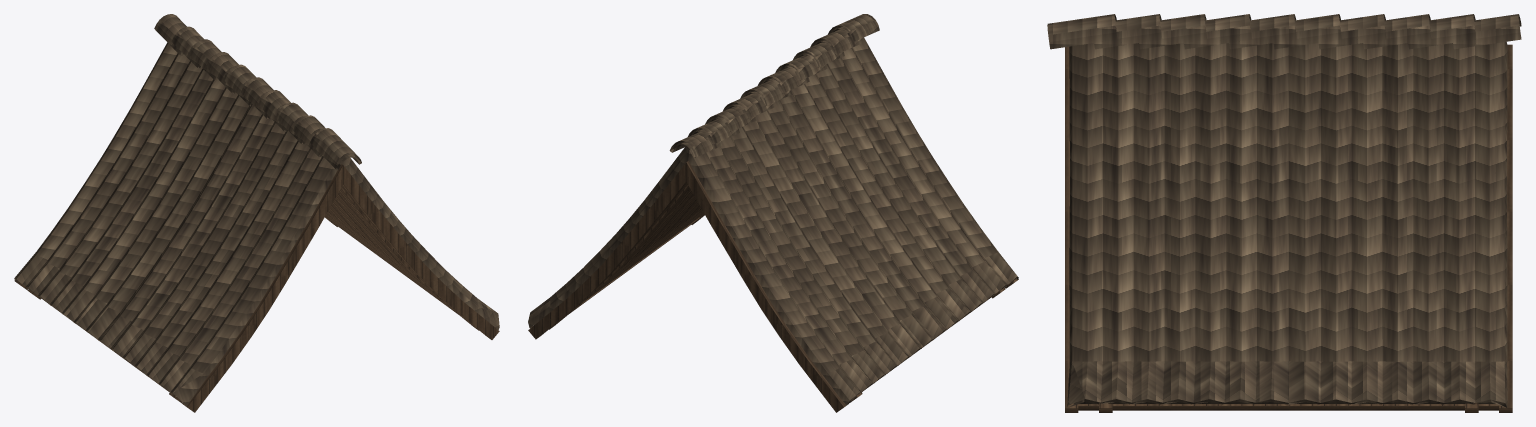
File: Roof_Shingle_6x6.gltf
3 views of the same model, side by side, from view 1: azimuth 30°, elevation 25°; view 2: azimuth 150°, elevation 25°; view 3: azimuth 270°, elevation 25° (orthographic). The views are drawn at different scales.
Visible parts, largest first — view 1: Roof_Shingle_6x6; view 2: Roof_Shingle_6x6; view 3: Roof_Shingle_6x6.
Boxes of the visible parts, x1,y1,x2,y2 form: Roof_Shingle_6x6: (14, 14, 499, 412); Roof_Shingle_6x6: (528, 14, 1018, 412); Roof_Shingle_6x6: (1047, 14, 1521, 412).
Size of the model in its own units: 8.25 by 5.67 by 8.03.
Materials: 2 (2 with a texture image).
